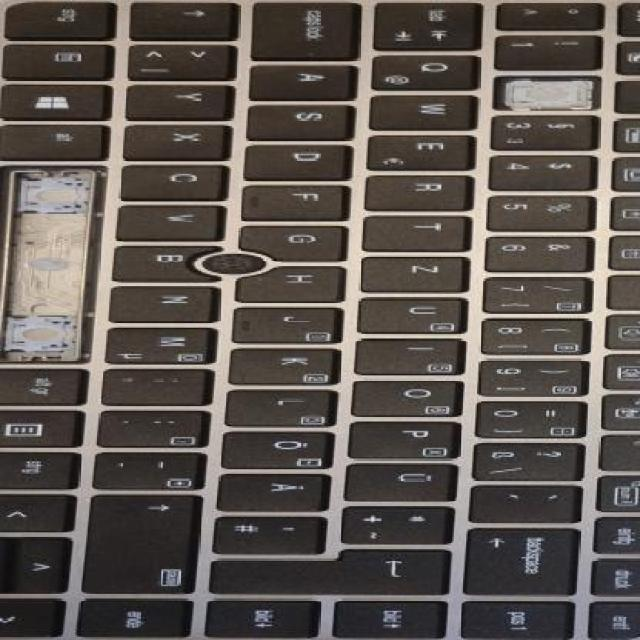Keyboard problems: (0, 160, 113, 374), (490, 61, 605, 117)
